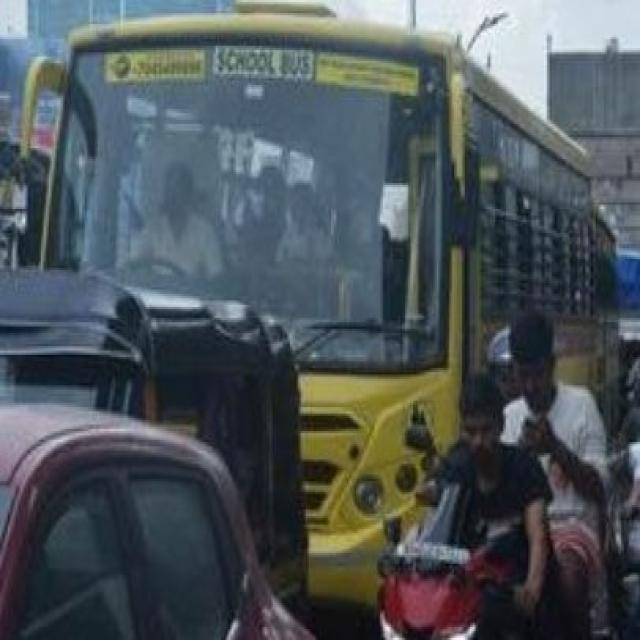bus: (24, 12, 616, 605)
